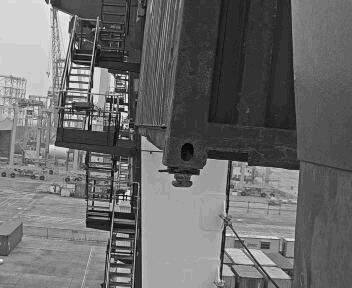twist_lock_1: (146, 160, 188, 192)
